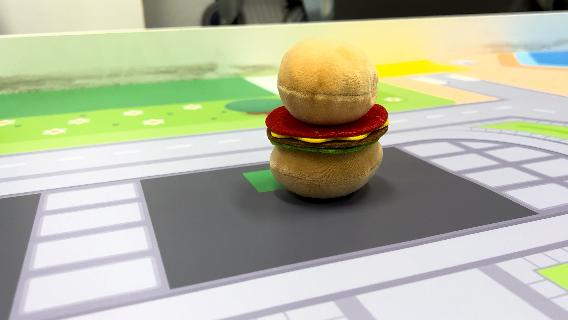burger: (263, 35, 393, 201)
